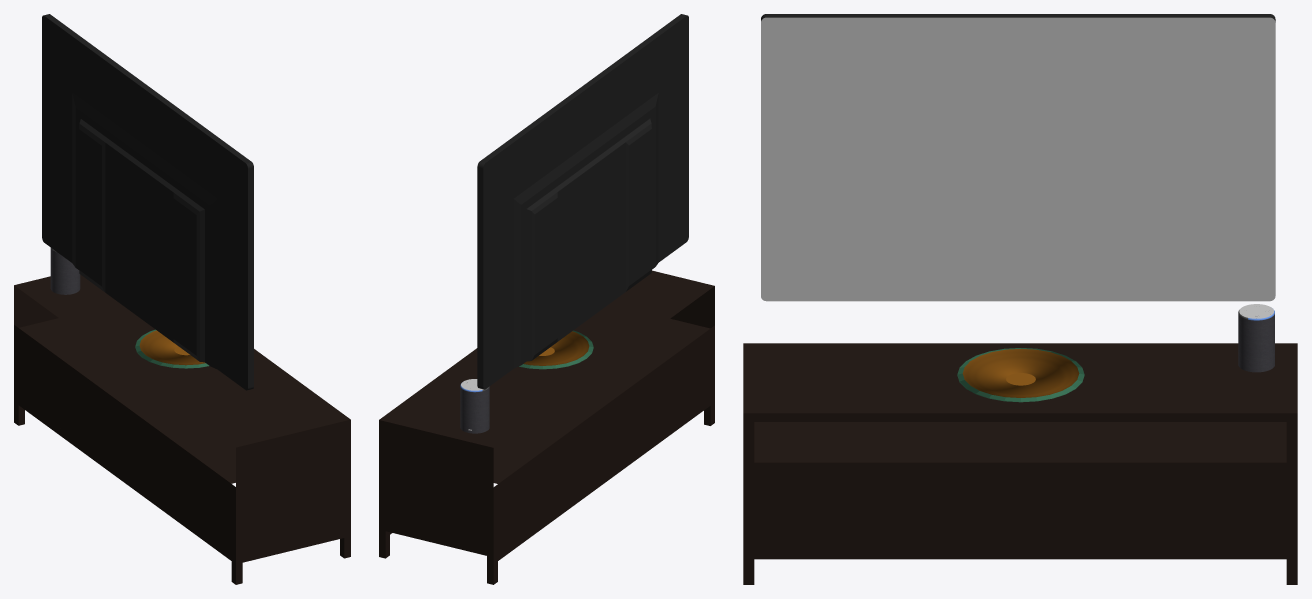
3 views of the same model, side by side, from view 1: azimuth 30°, elevation 25°; view 2: azimuth 150°, elevation 25°; view 3: azimuth 270°, elevation 25° (orthographic). The views are drawn at different scales.
Visible parts, largest first — view 1: Group2, Sharp_Aquos_LC_60LE741S1, Group3, Group6, Amazon_Echo1; view 2: Group2, Sharp_Aquos_LC_60LE741S1, Group3, Group6, Amazon_Echo1; view 3: Sharp_Aquos_LC_60LE741S1, Group2, Group3, Group6, Amazon_Echo1.
Part boxes in pixels (x1,y1,x2,y2): Group2: (14, 274, 350, 557); Sharp_Aquos_LC_60LE741S1: (42, 14, 253, 390); Group3: (14, 395, 350, 584); Group6: (135, 329, 209, 368); Amazon_Echo1: (50, 248, 80, 294); Group2: (379, 270, 714, 557); Sharp_Aquos_LC_60LE741S1: (477, 14, 688, 389); Group3: (379, 396, 714, 564); Group6: (519, 330, 593, 369); Amazon_Echo1: (460, 379, 489, 433); Sharp_Aquos_LC_60LE741S1: (761, 14, 1275, 301); Group2: (743, 343, 1297, 550); Group3: (743, 550, 1297, 584); Group6: (957, 348, 1084, 402); Amazon_Echo1: (1238, 304, 1274, 372).
Bounding box in the file's own units: 17.5 × 59.72 × 58.52.
